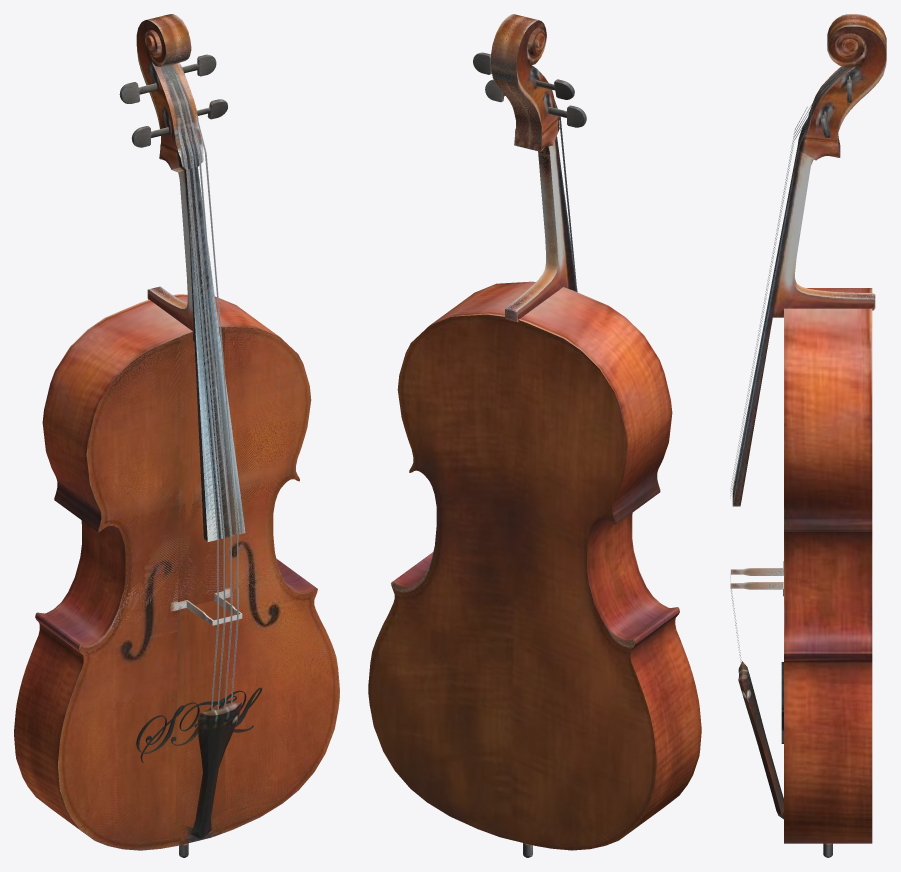
3 renders of one model, left to right at view 1: azimuth 30°, elevation 25°; view 2: azimuth 150°, elevation 25°; view 3: azimuth 270°, elevation 25°, orthographic. The views are drawn at different scales.
Visible parts, largest first — view 1: Component_1, group_2, Component_5 (×4), Component_2, SFL_1; view 2: Component_1, group_2; view 3: Component_1, group_2 (×2), Component_2 (×2), Component_7 (×2).
Part boxes in pixels (x1,y1,x2,y2): Component_1: [14, 294, 339, 850]; group_2: [136, 14, 245, 541]; Component_5 (×4): [185, 152, 238, 539]; Component_2: [191, 701, 241, 838]; SFL_1: [136, 687, 262, 762]; Component_1: [368, 281, 701, 850]; group_2: [491, 14, 577, 322]; Component_1: [784, 288, 872, 843]; group_2 (×2): [732, 14, 886, 506]; Component_2 (×2): [738, 661, 783, 818]; Component_7 (×2): [731, 561, 783, 596].
Bounding box in the file's own units: 22.48 × 10.76 × 63.22.
Materials: 4 (2 with a texture image).
